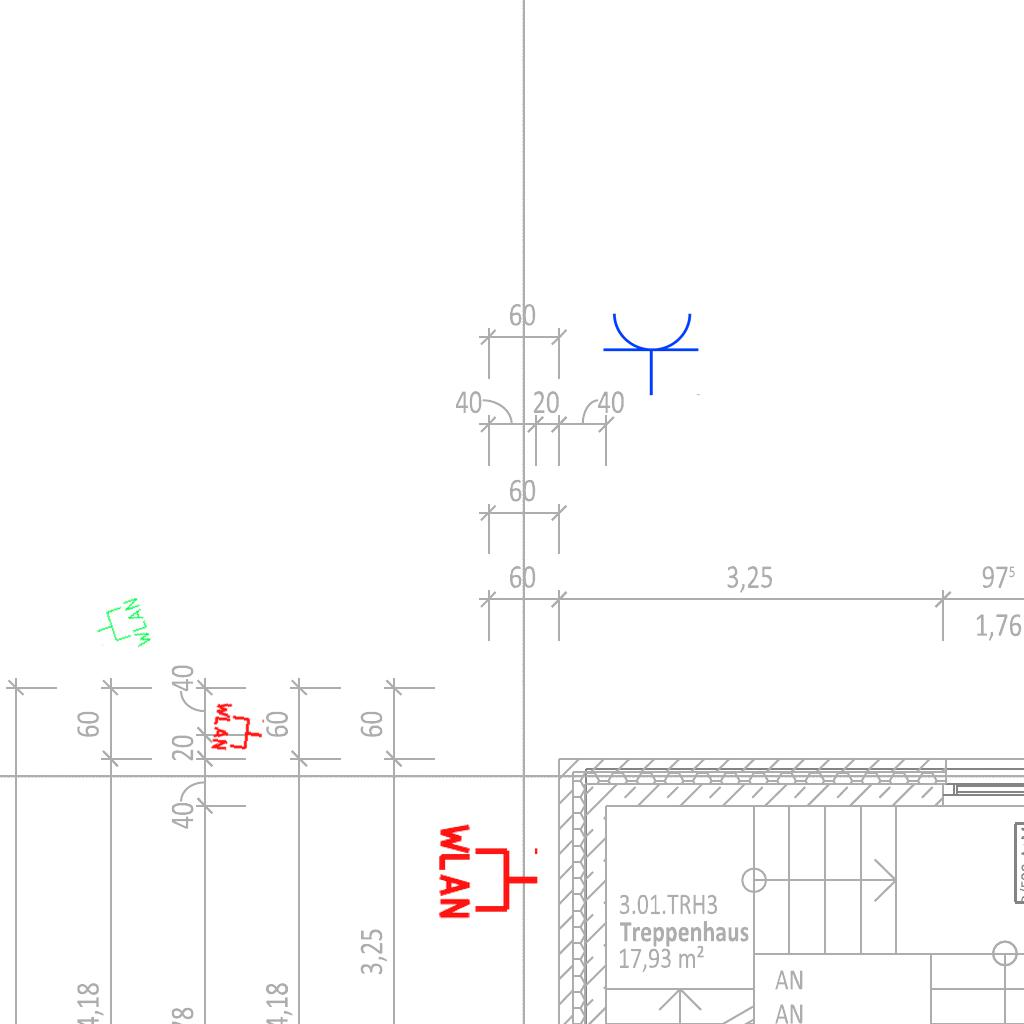Schukosteckdose_einfach: (602, 309, 702, 396)
WLAN: (437, 819, 542, 923), (88, 594, 156, 662), (210, 699, 268, 757)
